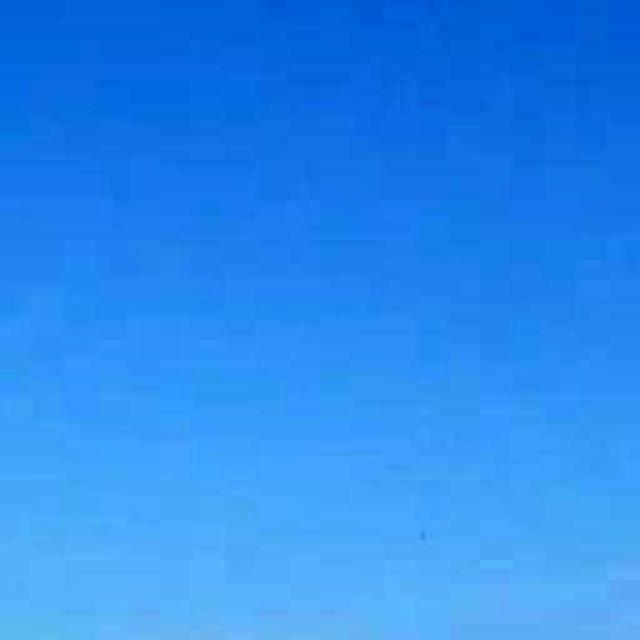drone: (390, 499, 456, 572)
